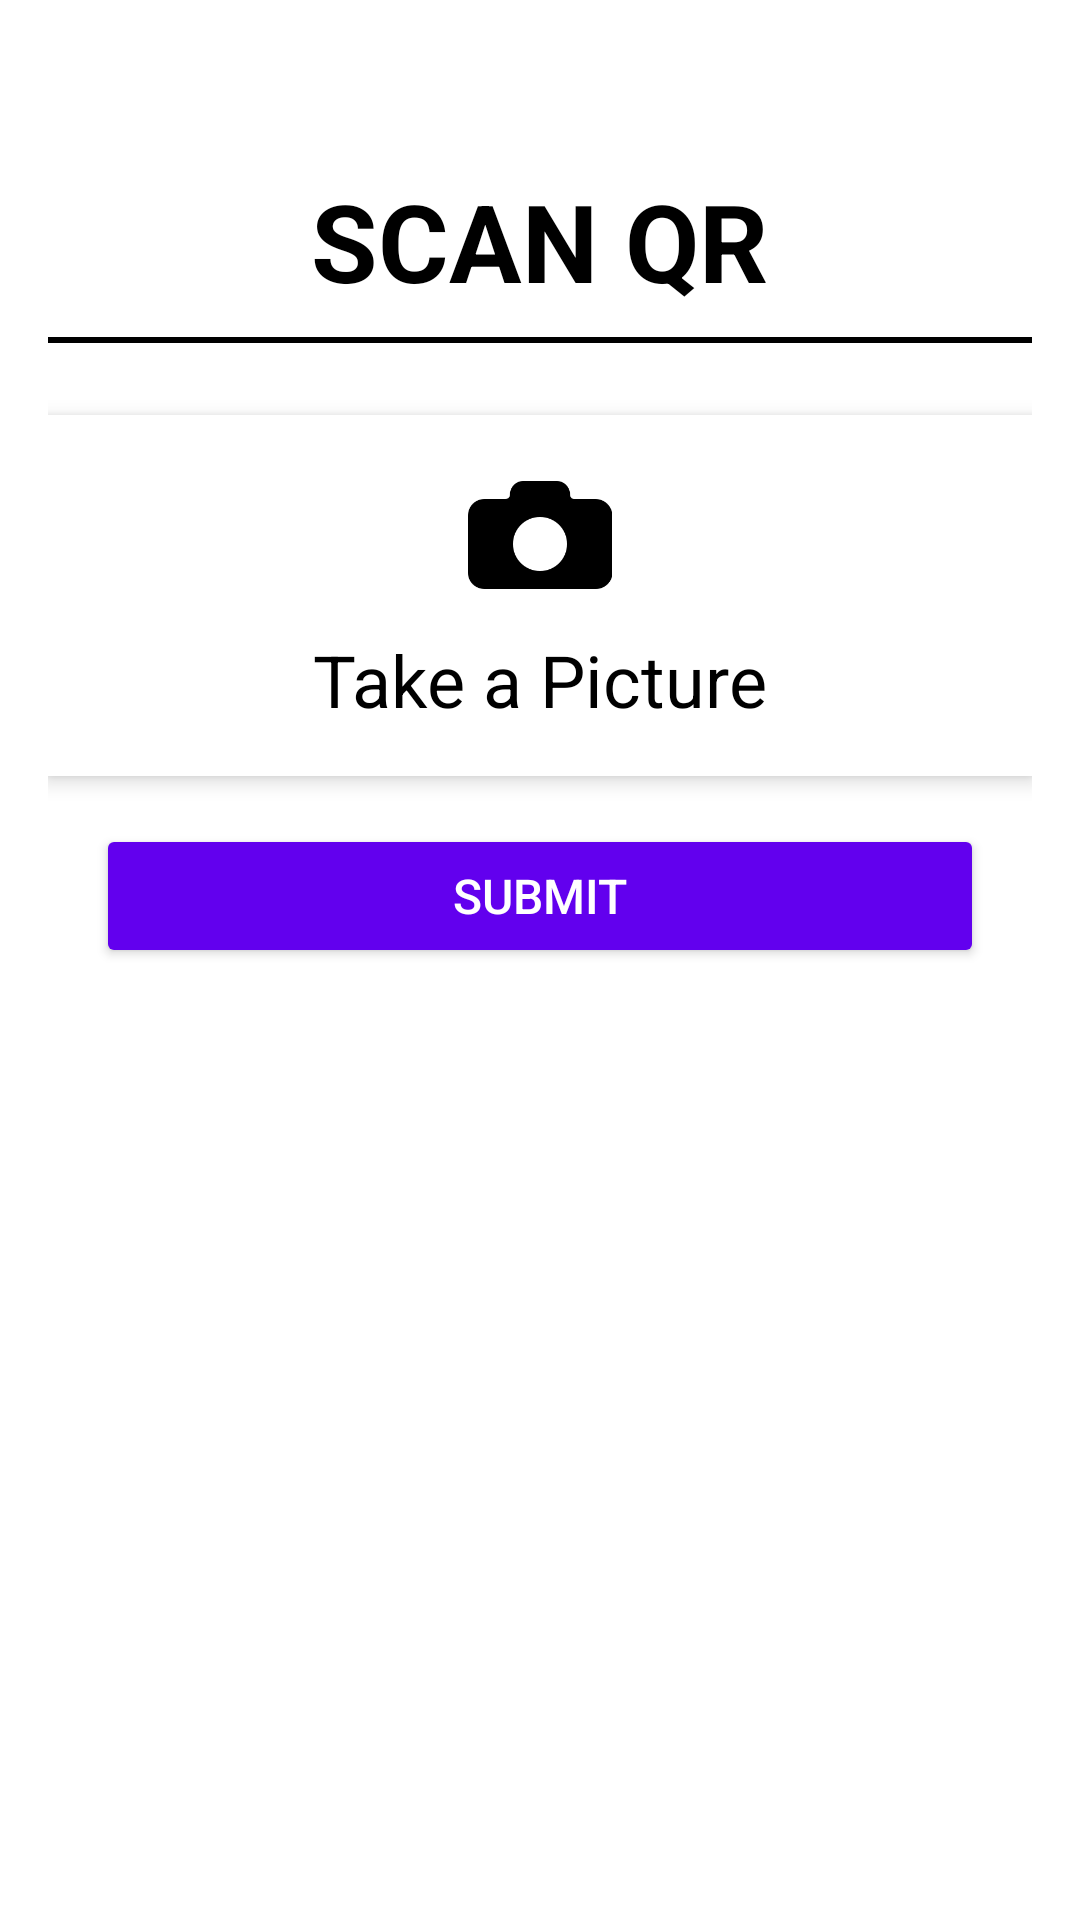

Named icons in this screenshot (1080px×1920px) and their centers, (x=x, y=y):
Camera Icon: (x=540, y=535)
